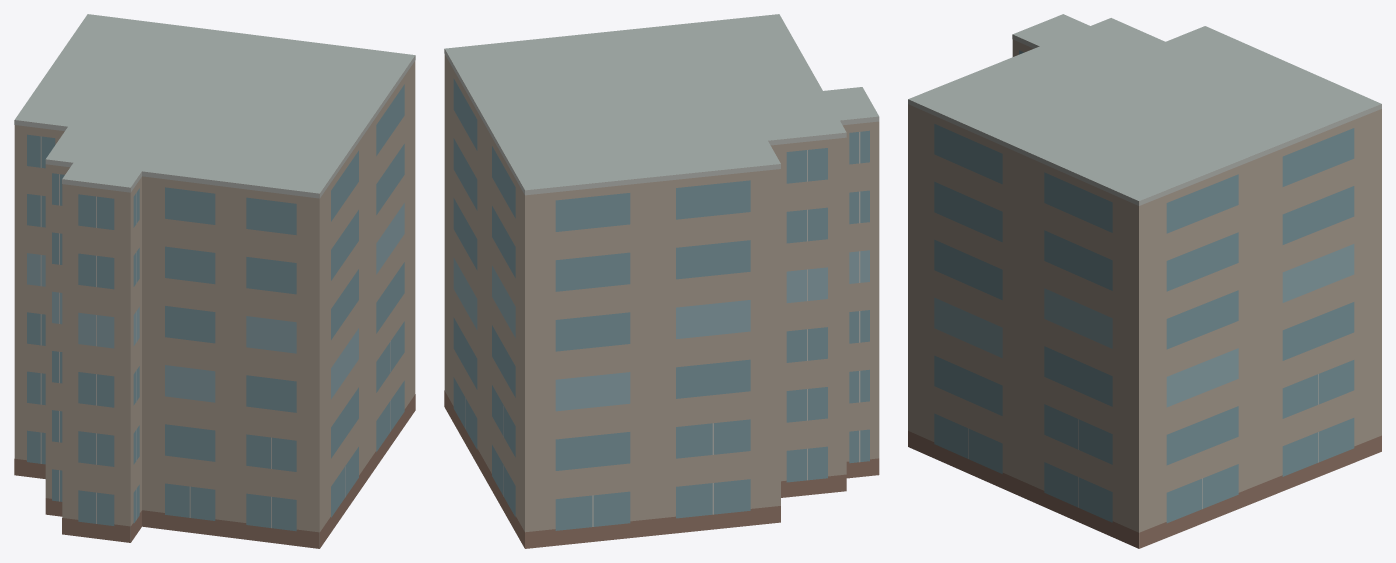
The model's file is survey-upis-32686860.glb.
The picture shows the model from 3 angles, left to right: view 1: azimuth 30°, elevation 25°; view 2: azimuth 150°, elevation 25°; view 3: azimuth 270°, elevation 25°; orthographic projection. The views are drawn at different scales.
Parts seen in each view (by area): view 1: survey-upis-32686860.tmp; view 2: survey-upis-32686860.tmp; view 3: survey-upis-32686860.tmp.
Part boxes in pixels (x1,y1,x2,y2): survey-upis-32686860.tmp: (14,14,415,548); survey-upis-32686860.tmp: (444,14,879,548); survey-upis-32686860.tmp: (908,14,1381,548).
Size of the model in its own units: 20.22 by 17.5 by 21.62.
